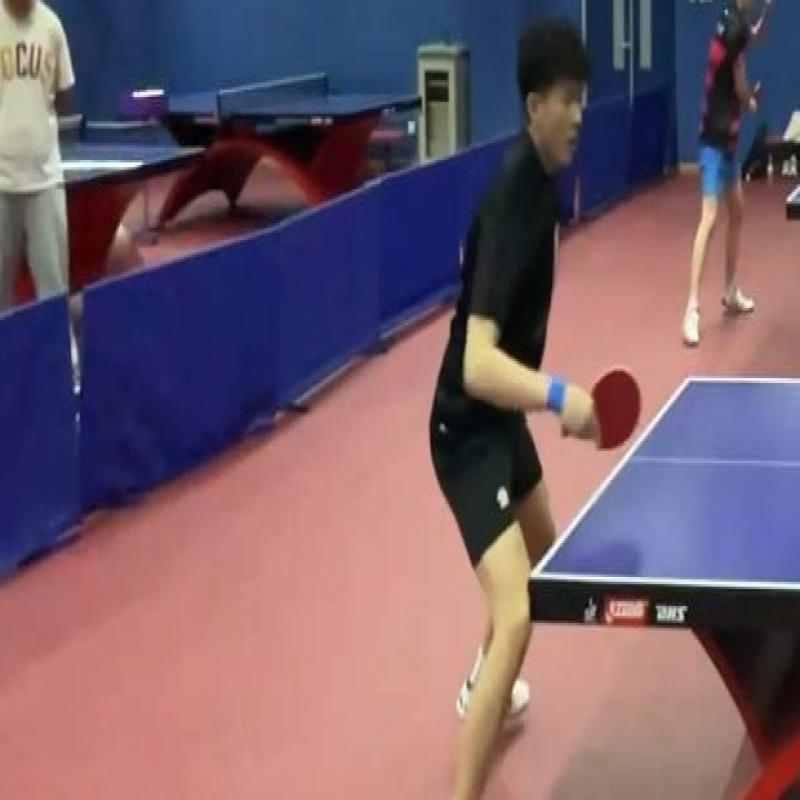bats: (578, 356, 650, 461)
